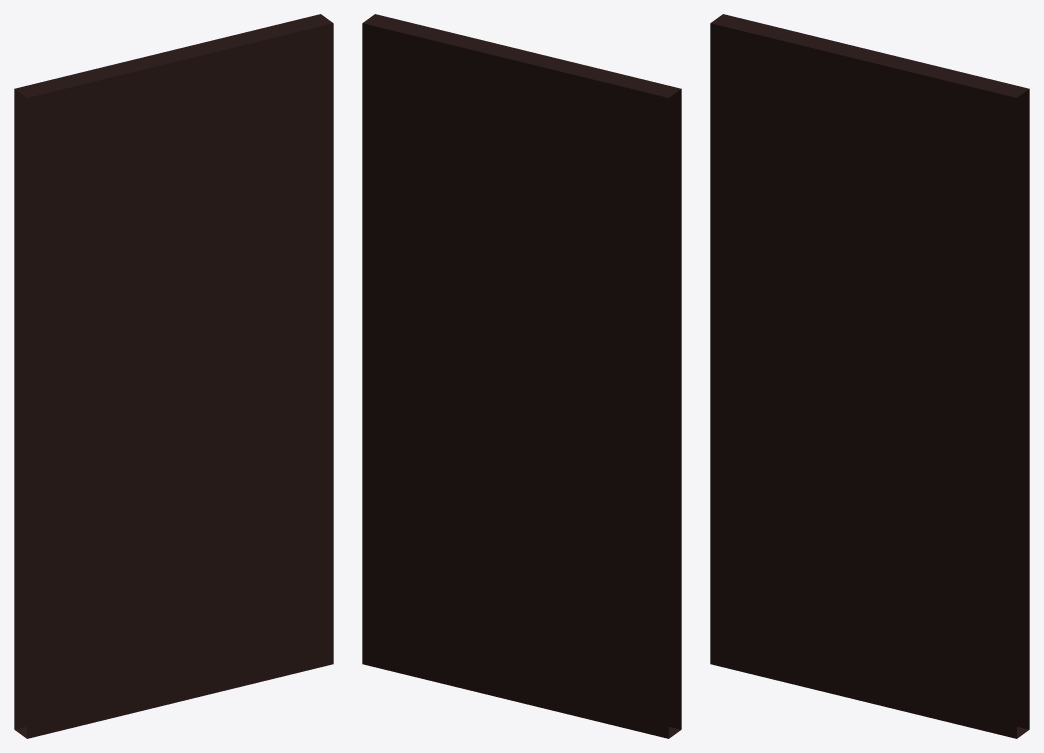
Rendered from SM_shopping_wall_01.fbx.
3 renders of one model, left to right at view 1: azimuth 30°, elevation 25°; view 2: azimuth 150°, elevation 25°; view 3: azimuth 330°, elevation 25°, orthographic.
Parts seen in each view (by area): view 1: shopping_wall_01; view 2: shopping_wall_01; view 3: shopping_wall_01.
Part boxes in pixels (x1,y1,x2,y2): shopping_wall_01: (14,14,333,738); shopping_wall_01: (362,14,681,738); shopping_wall_01: (710,14,1029,738).
Size of the model in its own units: 98.71 by 197 by 7.05.
